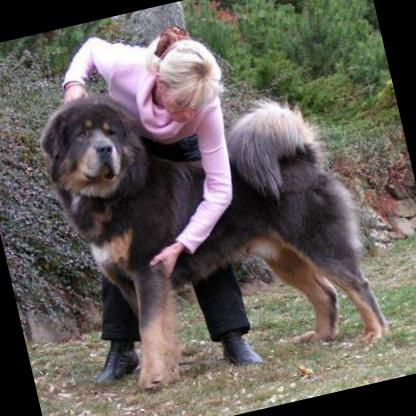Tibetan_mastiff: (10, 28, 401, 416)
